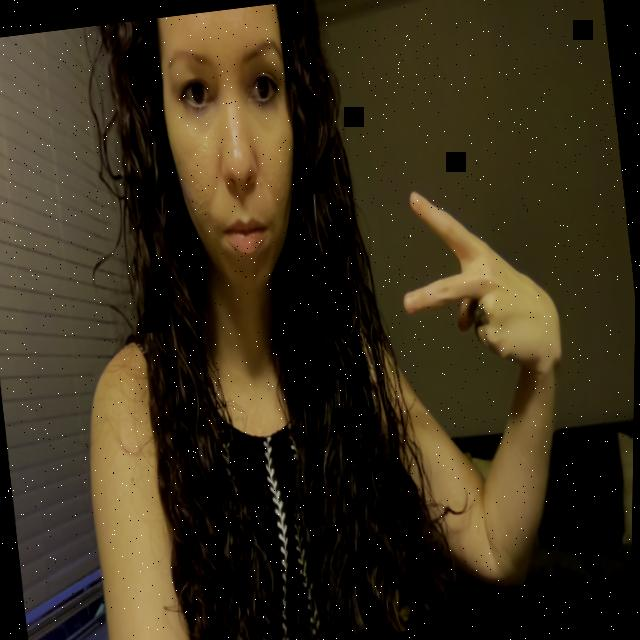Scissors: (386, 170, 575, 402)
